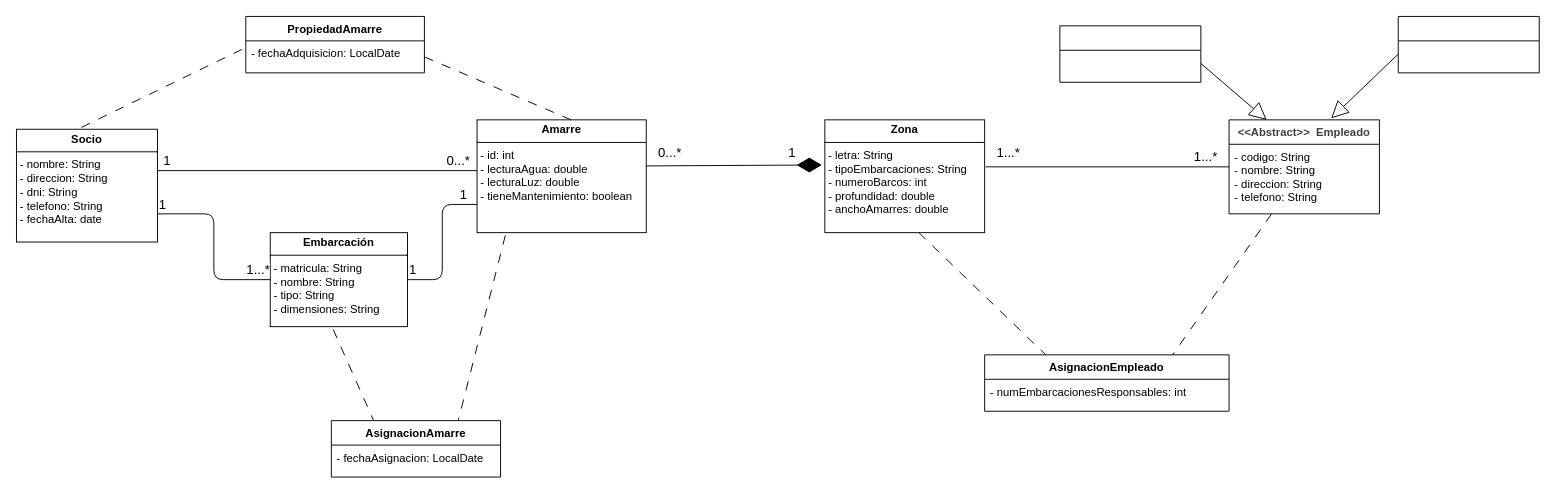
The diagram is 1556 pixels wide and 496 high, and some of its shapes have lost their labels. The centre of each missing label's shape, as x and y in pixels:
"EmpleadoMantenimiento" belongs at [1468,44].
"EmpleadoOperativo" belongs at [1130,53].
